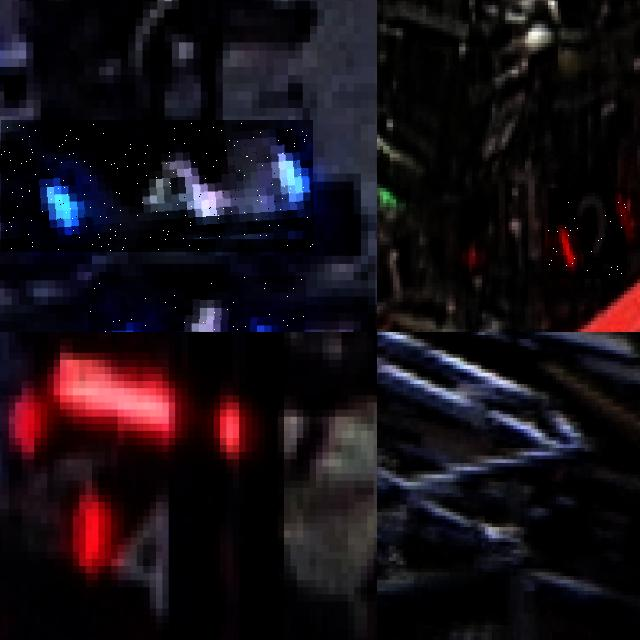R2: (548, 188, 627, 279)
R4: (1, 120, 313, 252), (88, 276, 306, 332)
